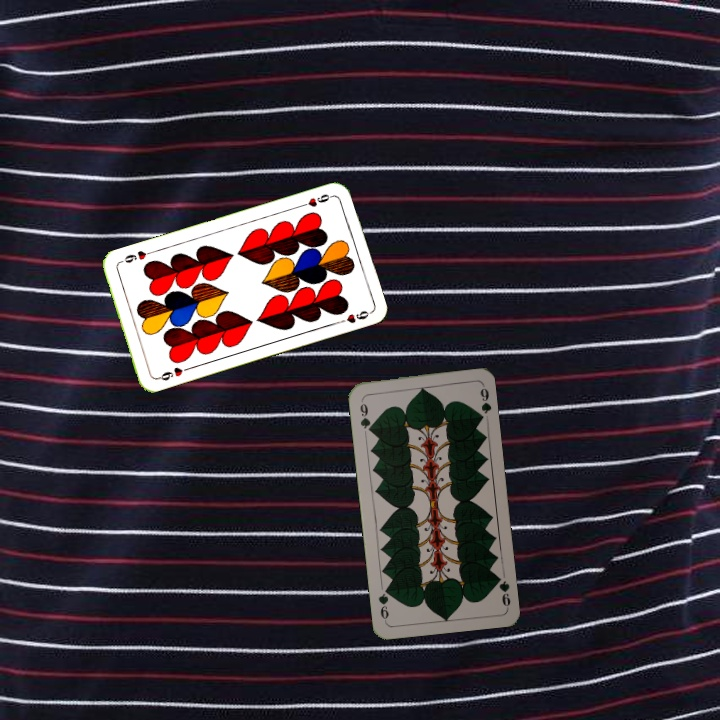G9: (492, 571, 513, 610), (356, 395, 374, 435)
H9: (152, 363, 192, 383), (296, 190, 336, 209)
